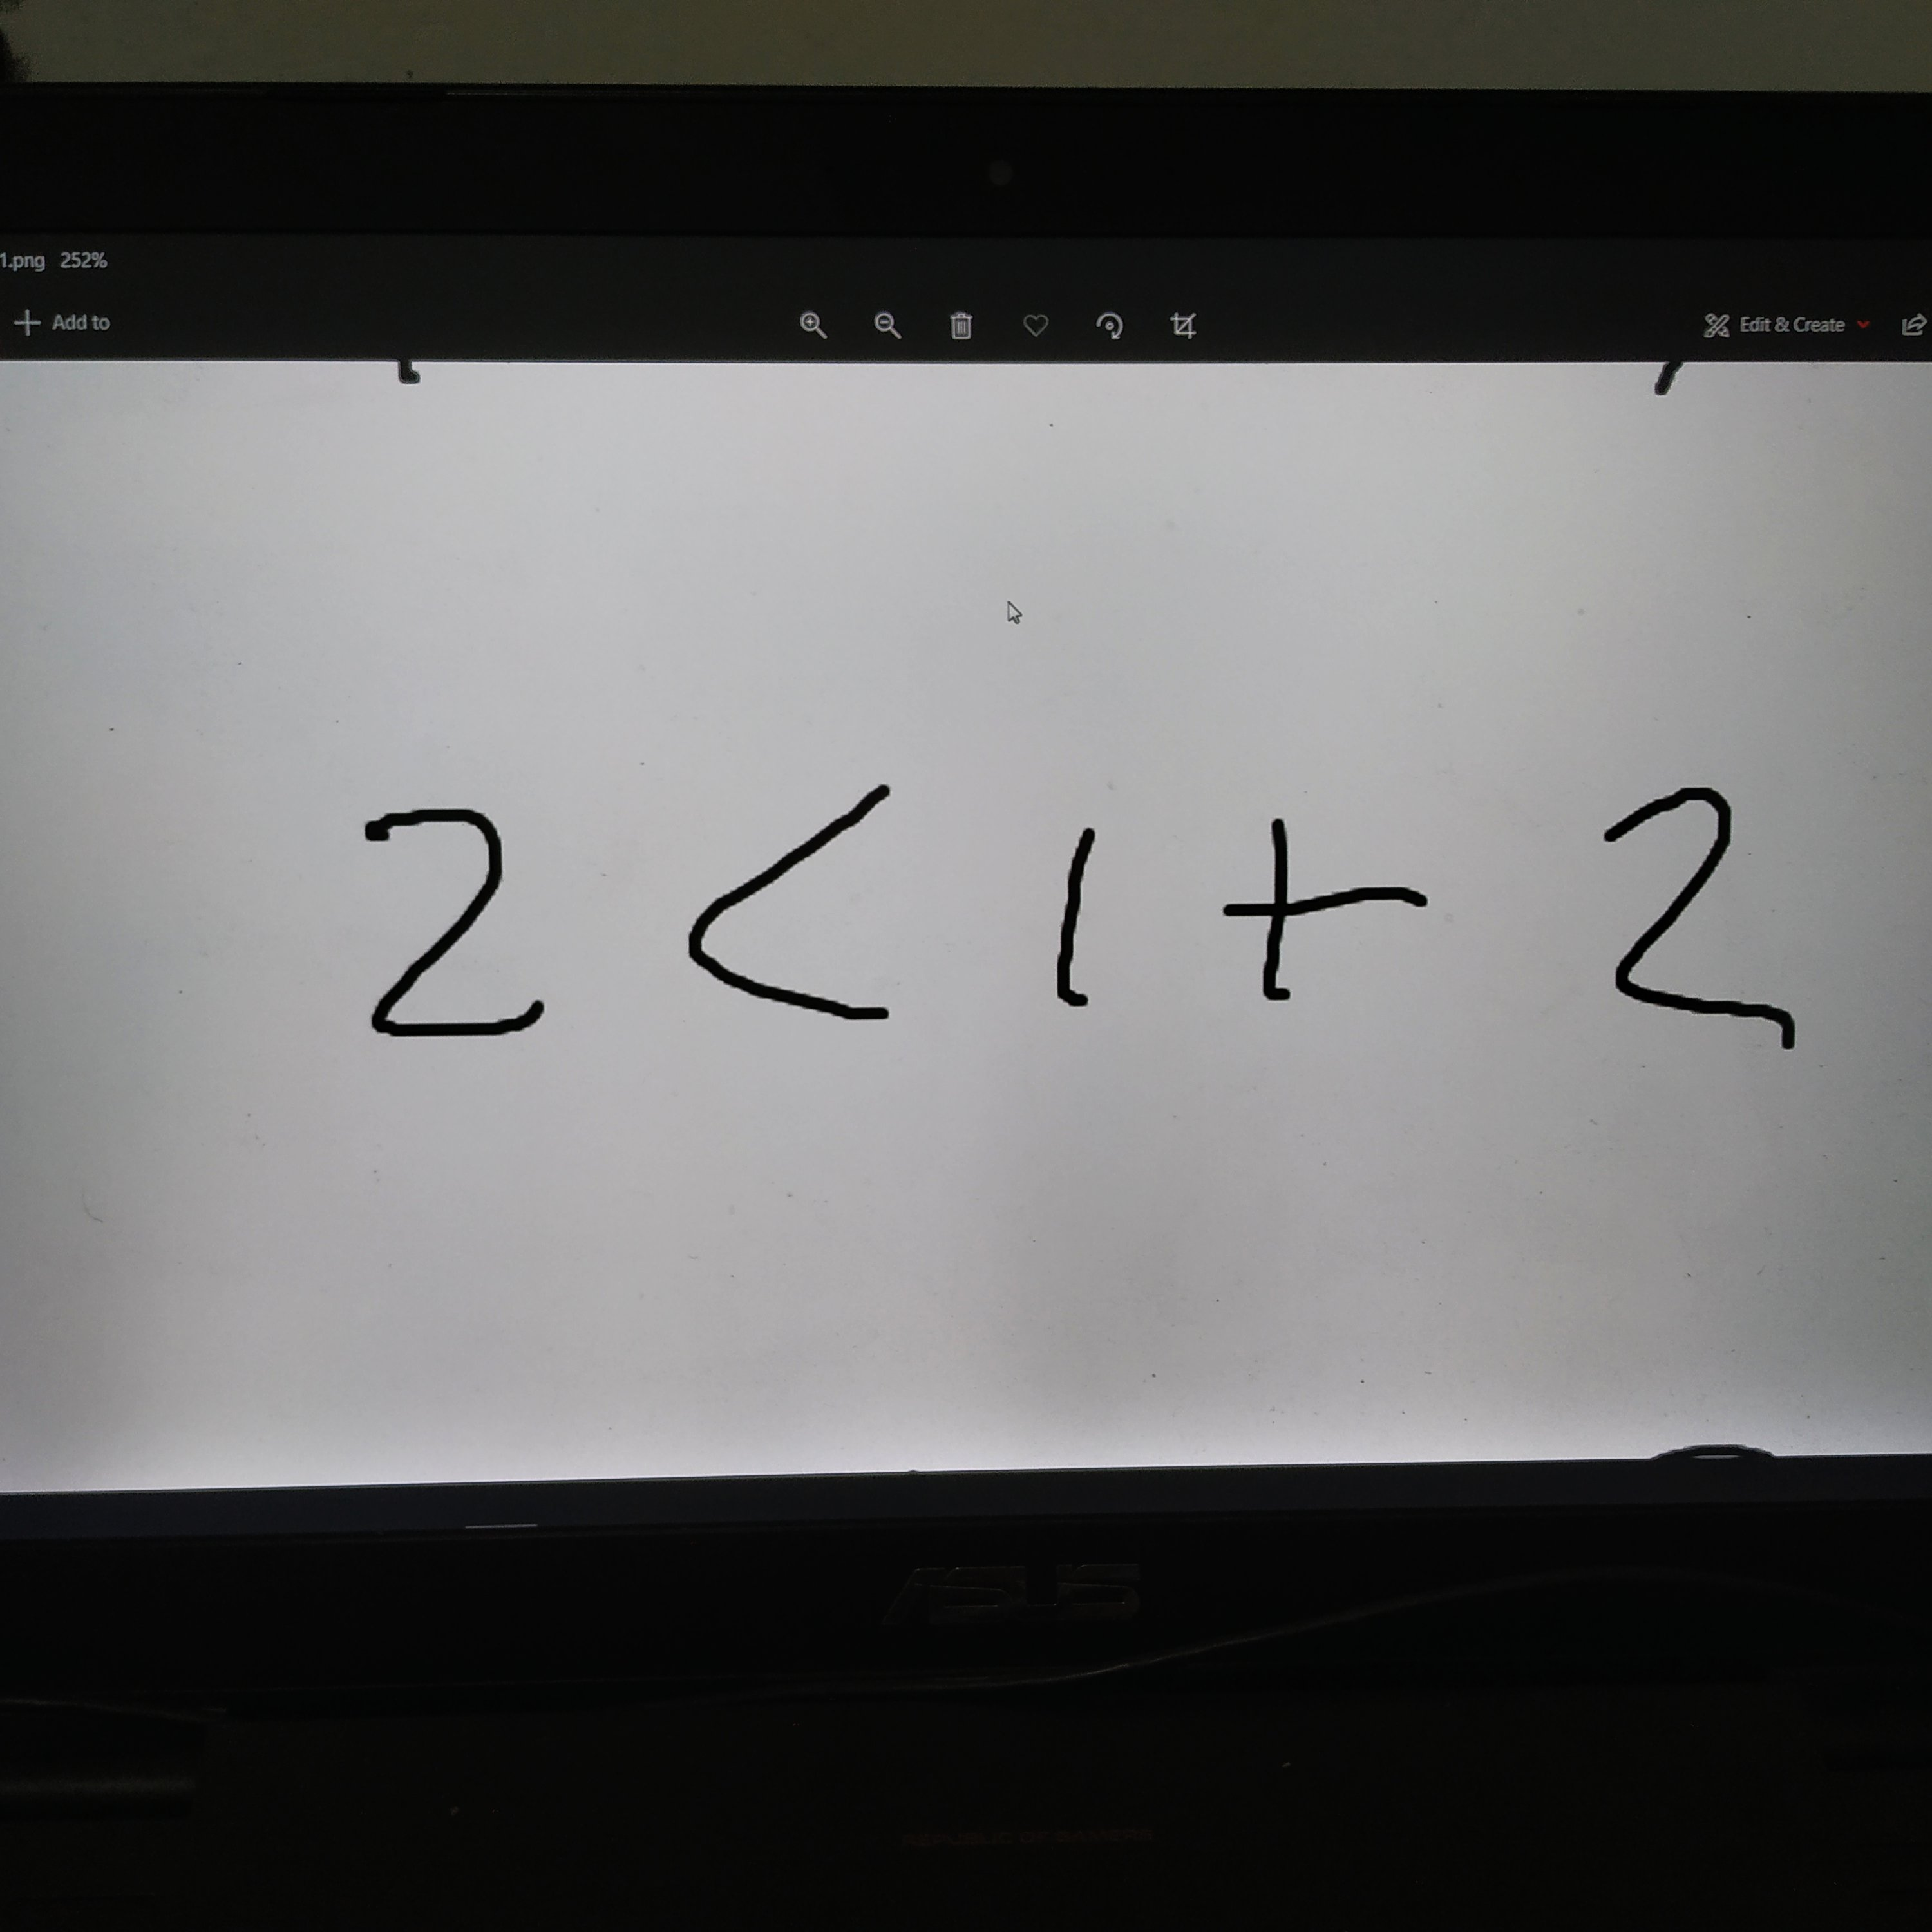lessthan: (680, 759, 929, 1067)
num1: (1039, 802, 1135, 1047)
num2: (1577, 764, 1833, 1084), (332, 782, 605, 1069)
sum: (1203, 802, 1459, 1014)
